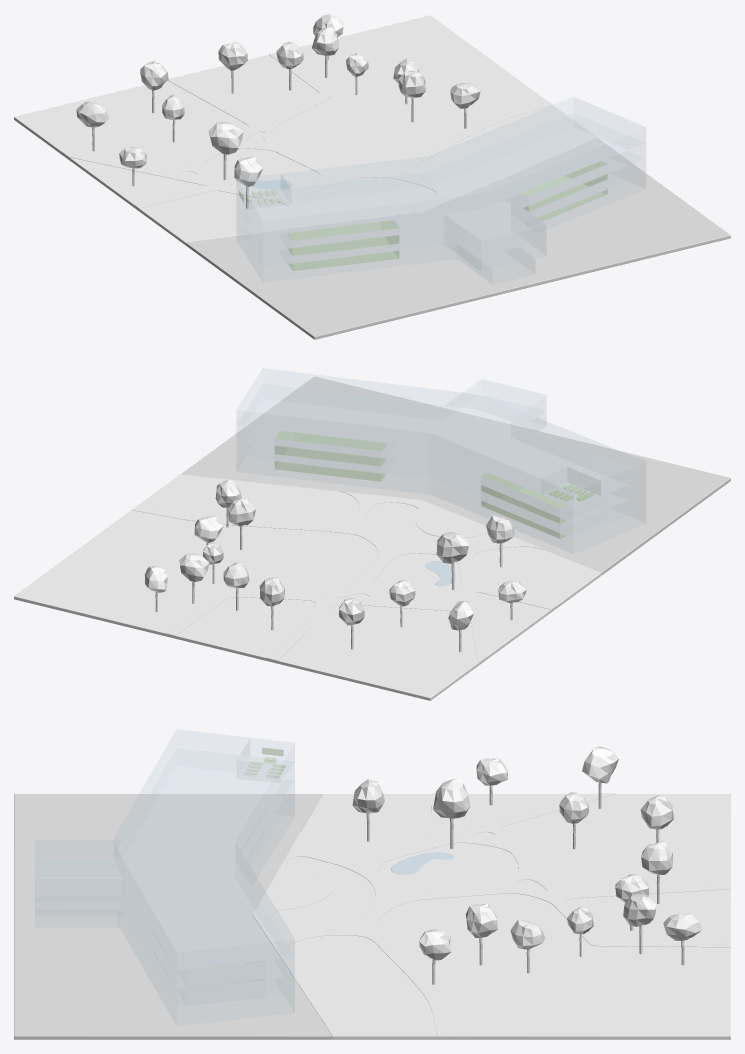
File: campus.gltf
3 views of the same model, one above another, from view 1: azimuth 30°, elevation 25°; view 2: azimuth 150°, elevation 25°; view 3: azimuth 270°, elevation 25° (orthographic). The views are drawn at different scales.
Visible parts, largest first — view 1: park, building_base, floor_2, floor_3, floor_1, paths_Retopo, floor_0, room2, room1, corner_room, tree010, tree013 (+9 smaller); view 2: park, building_base, floor_2, floor_3, floor_0, paths_Retopo, floor_1, room1, room2, corner_room, tree010, tree01 (+11 smaller); view 3: park, building_base, floor_2, floor_3, paths_Retopo, floor_1, floor_0, corner_room, tree010, tree012, tree005, tree01 (+12 smaller).
Part boxes in pixels (x1=…): park: x1=14, y1=15, x2=596, y2=244; building_base: x1=185, y1=138, x2=730, y2=339; floor_2: x1=237, y1=113, x2=645, y2=255; floor_3: x1=247, y1=97, x2=645, y2=235; floor_1: x1=237, y1=151, x2=645, y2=270; paths_Retopo: x1=62, y1=52, x2=552, y2=232; floor_0: x1=237, y1=166, x2=645, y2=283; room2: x1=288, y1=220, x2=398, y2=270; room1: x1=521, y1=161, x2=606, y2=221; corner_room: x1=237, y1=174, x2=290, y2=209; tree010: x1=208, y1=122, x2=243, y2=179; tree013: x1=234, y1=156, x2=263, y2=208; park: x1=14, y1=474, x2=601, y2=700; building_base: x1=181, y1=376, x2=730, y2=574; floor_2: x1=237, y1=379, x2=645, y2=522; floor_3: x1=237, y1=368, x2=645, y2=495; floor_0: x1=237, y1=443, x2=645, y2=553; paths_Retopo: x1=132, y1=491, x2=555, y2=662; floor_1: x1=237, y1=395, x2=645, y2=537; room1: x1=275, y1=431, x2=386, y2=481; room2: x1=482, y1=473, x2=566, y2=538; corner_room: x1=541, y1=467, x2=600, y2=506; tree010: x1=436, y1=532, x2=468, y2=589; tree01: x1=179, y1=553, x2=209, y2=603; park: x1=271, y1=794, x2=730, y2=1039; building_base: x1=14, y1=794, x2=332, y2=1039; floor_2: x1=35, y1=748, x2=294, y2=988; floor_3: x1=115, y1=730, x2=294, y2=969; paths_Retopo: x1=253, y1=793, x2=730, y2=1035; floor_1: x1=35, y1=779, x2=294, y2=1006; floor_0: x1=35, y1=798, x2=294, y2=1025; corner_room: x1=237, y1=738, x2=294, y2=782; tree010: x1=433, y1=778, x2=470, y2=849; tree012: x1=582, y1=746, x2=618, y2=808; tree005: x1=465, y1=903, x2=497, y2=965; tree01: x1=623, y1=894, x2=656, y2=953.
Bounding box in the file's own units: 2.8 × 0.42 × 3.5.
6 materials, 2 textured.
